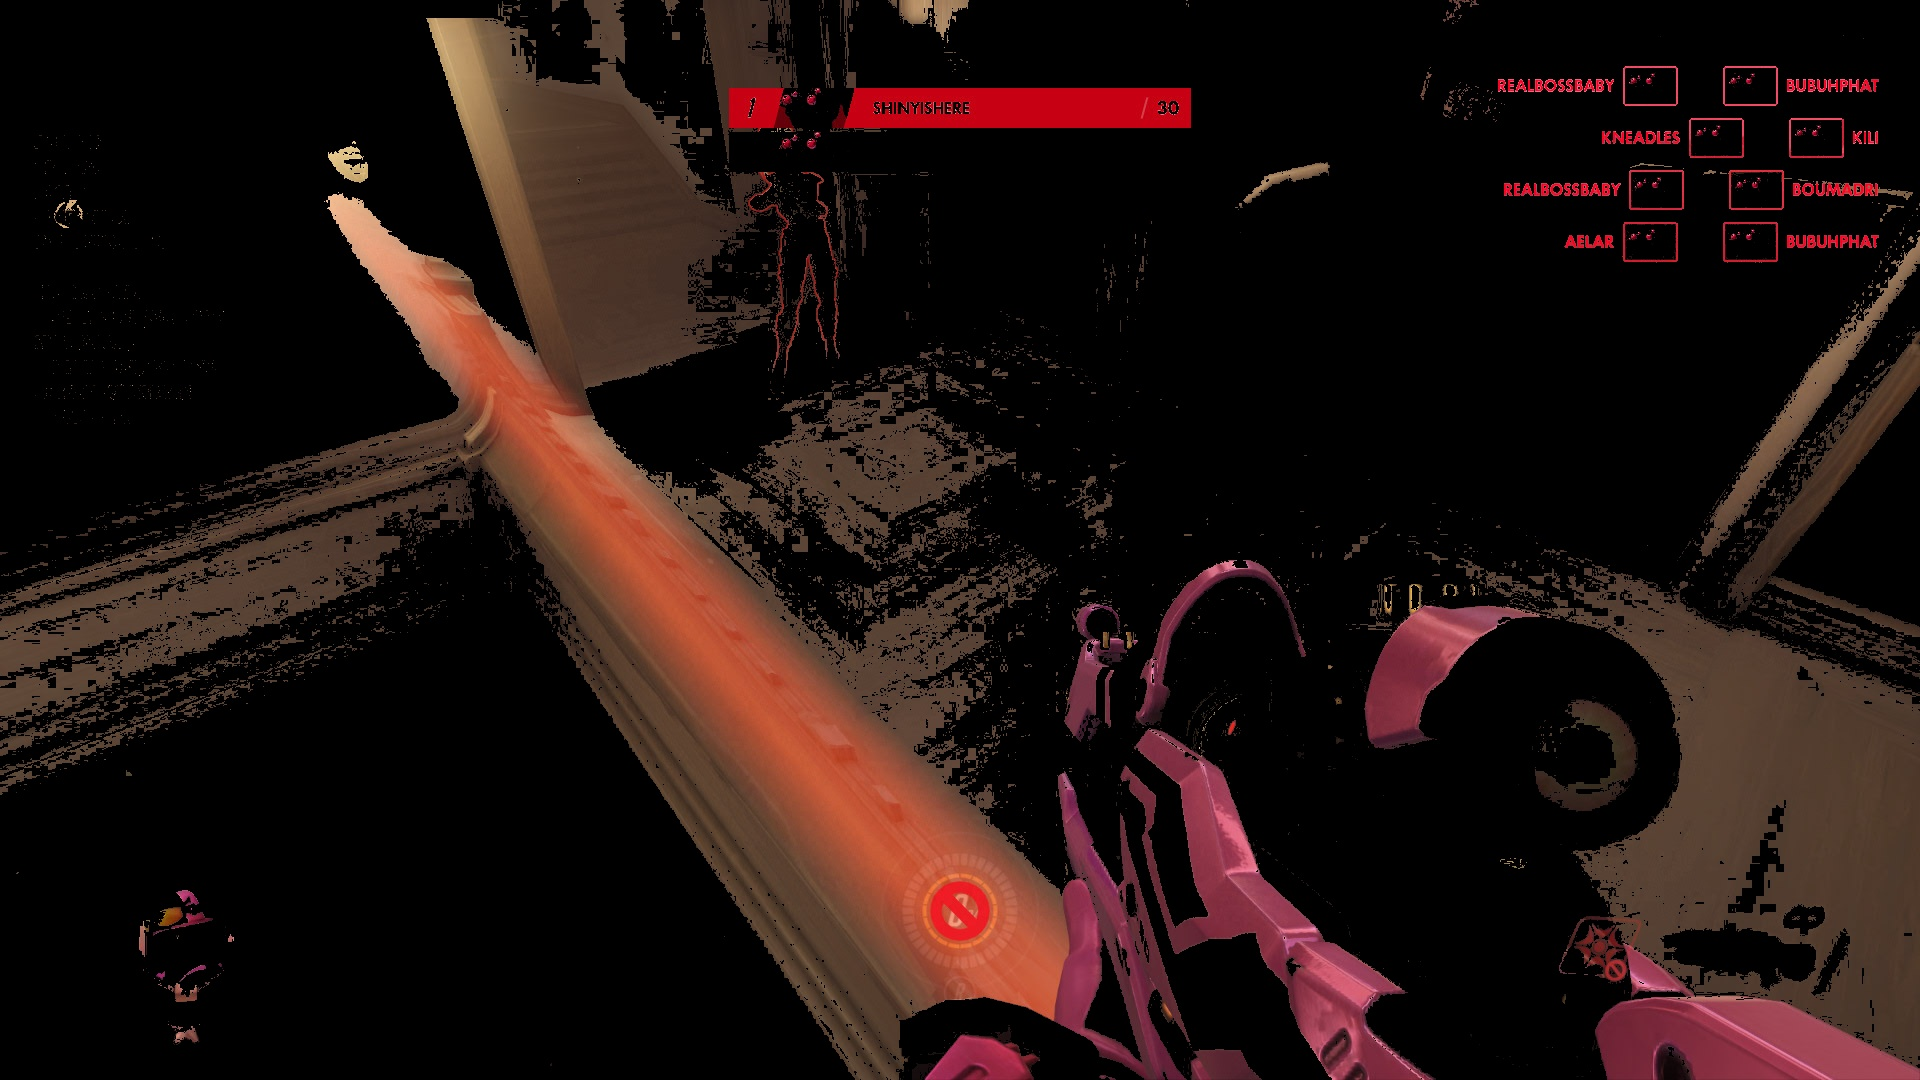widowmaker: (742, 165, 862, 401)
